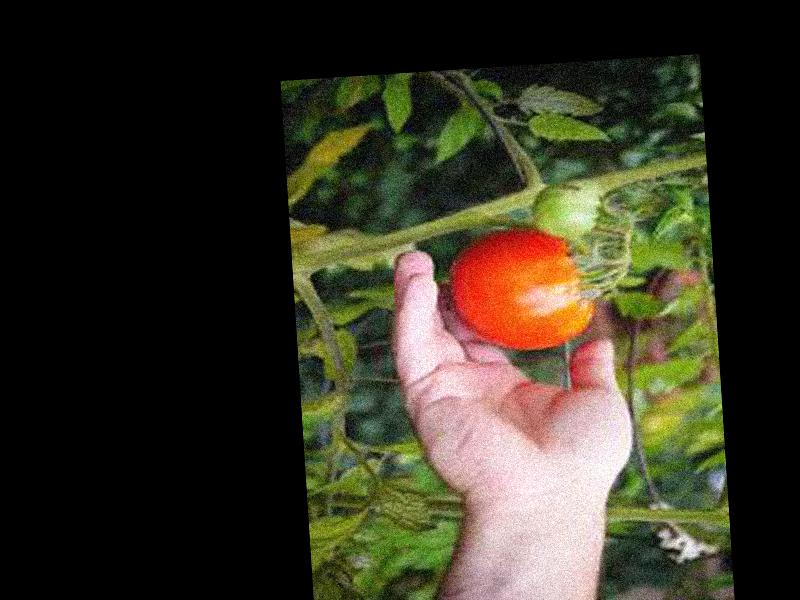Tomato: (447, 220, 600, 355)
